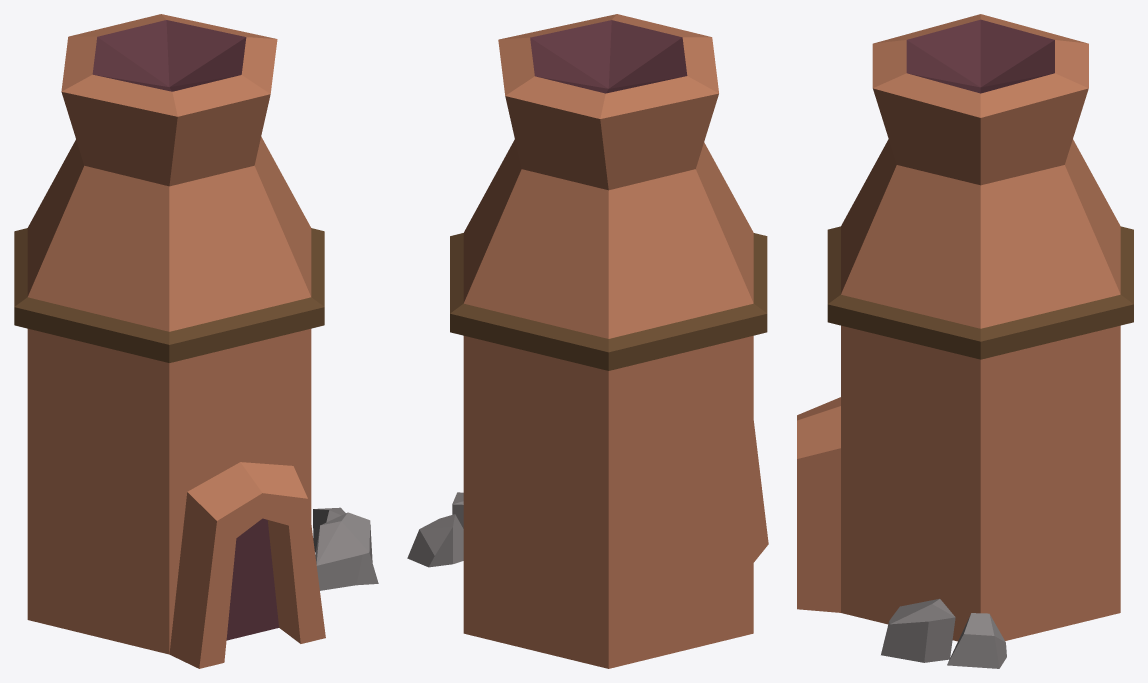
Rendered from SM_Furnace_Tribal.fbx.
3 views of the same model, side by side, from view 1: azimuth 30°, elevation 25°; view 2: azimuth 150°, elevation 25°; view 3: azimuth 270°, elevation 25° (orthographic). The views are drawn at different scales.
Parts seen in each view (by area): view 1: SM_Furnace_Tribal; view 2: SM_Furnace_Tribal; view 3: SM_Furnace_Tribal.
Part boxes in pixels (left/top/right/bottom): SM_Furnace_Tribal: left=14, top=14, right=378, bottom=668; SM_Furnace_Tribal: left=407, top=14, right=768, bottom=668; SM_Furnace_Tribal: left=797, top=14, right=1133, bottom=668.
Size of the model in its own units: 1.57 by 2.32 by 1.35.
